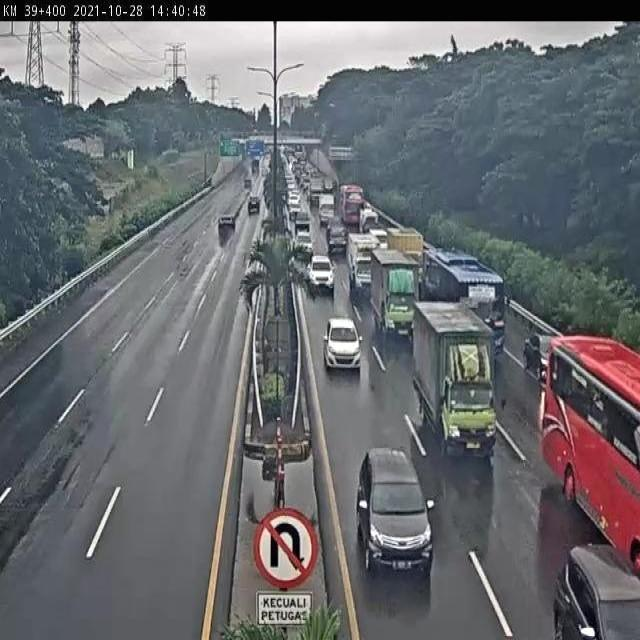Bus: (535, 330, 640, 570), (423, 244, 510, 354)
Car: (360, 447, 433, 576), (556, 545, 639, 640), (324, 318, 365, 367), (311, 256, 337, 294), (328, 218, 347, 249), (294, 230, 314, 258), (295, 213, 312, 232), (288, 193, 302, 214), (218, 213, 234, 229), (248, 195, 260, 213)
Truck: (413, 299, 503, 455), (368, 250, 422, 336), (385, 227, 432, 288), (349, 234, 386, 296), (341, 185, 368, 222), (316, 193, 336, 224)
